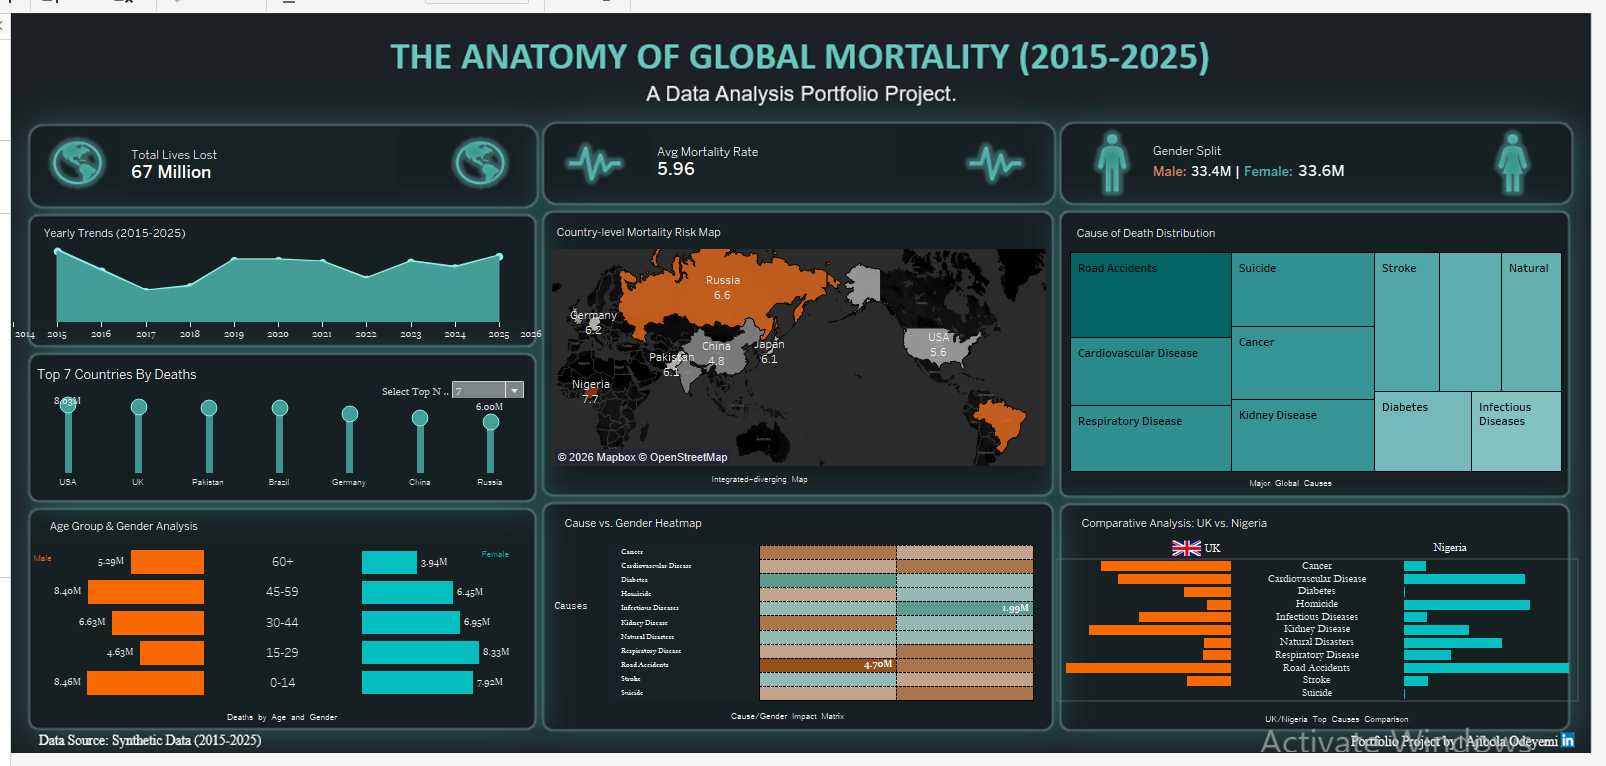

What the dashboard file says about the page in this screenshot:
{"tool":"tableau","page":{"name":"Dashboard 1","canvas":[1580,740],"ordinal":0},"visuals":[{"type":"image","box":[8,8,1564,724]},{"type":"worksheet","title":"Sheet 1 (4)","mark":"Automatic","box":[1138,112,343,76]},{"type":"worksheet","title":"Sheet 1 (2)","mark":"Automatic","box":[642,121,237,58]},{"type":"worksheet","title":"Sheet 1","mark":"Automatic","box":[116,122,270,61]},{"type":"text","box":[543,204,276,30]},{"type":"text","box":[30,205,273,30]},{"type":"text","box":[1063,205,210,30]},{"type":"worksheet","title":"Sheet 1 (10)","mark":"Line","rows":["Number_of_Deaths","Number_of_Deaths"],"cols":["Year"],"box":[2,232,530,107]},{"type":"worksheet","title":"Sheet 1 (11)","mark":"Automatic","box":[1055,235,499,228]},{"type":"worksheet","title":"Sheet 1 (7)","mark":"Automatic","box":[541,236,494,217]},{"type":"worksheet","title":"Sheet 1 (5)","mark":"Automatic","rows":["Number_of_Deaths","Number_of_Deaths"],"cols":["Country"],"box":[22,349,493,131]},{"type":"parameter","param":"[Parameters].[Parameter 1]","box":[366,368,150,17]},{"type":"text","box":[698,450,148,30]},{"type":"text","box":[1236,453,128,33]},{"type":"text","box":[551,495,208,30]},{"type":"text","box":[1068,495,285,30]},{"type":"text","box":[36,498,254,30]},{"type":"text","box":[1420,520,100,30]},{"type":"text","box":[1191,521,100,30]},{"type":"text","box":[468,525,100,30]},{"type":"image","param":"C:/Users/USER/Downloads/uk flag icon.png","box":[1160,527,31,16]},{"type":"image","param":"C:/Users/USER/AppData/Local/Temp/TableauTemp/19x3lg00do9o2217msym804m0k1e/Sheets","box":[1390,528,27,15]},{"type":"text","box":[20,529,100,30]},{"type":"worksheet","title":"Sheet 1 (12)","mark":"Square","rows":["Cause_of_Death"],"cols":["Gender"],"box":[604,532,419,156]},{"type":"worksheet","title":"Sheet 1 (6)","mark":"Automatic","rows":["Age_Group"],"cols":["Calculation_285134194749792262","Calculation_781374579013070849","Calculation_285134194750025735"],"box":[35,534,474,151]},{"type":"worksheet","title":"Sheet 1 (9)","mark":"Automatic","rows":["Cause_of_Death"],"cols":["Calculation_285134194784825360","Calculation_781374579029274627","Calculation_285134194785046545"],"box":[1047,547,519,140]},{"type":"text","box":[541,577,100,30]},{"type":"text","box":[690,687,173,30]},{"type":"text","box":[168,688,206,30]},{"type":"text","box":[1190,690,272,30]}]}

Visuals, with their boxes on the page's 1580x740 design canvas (x1, y1, x2, y2). These are canvas units, not pixel positions in the 1606x766 screenshot, which may show the page scaled, cropped or inside an application window:
image: crop(8, 8, 1572, 732)
"Sheet 1 (4)" worksheet: crop(1138, 112, 1481, 188)
"Sheet 1 (2)" worksheet: crop(642, 121, 879, 179)
"Sheet 1" worksheet: crop(116, 122, 386, 183)
text: crop(543, 204, 819, 234)
text: crop(30, 205, 303, 235)
text: crop(1063, 205, 1273, 235)
"Sheet 1 (10)" worksheet (Line marks): crop(2, 232, 532, 339)
"Sheet 1 (11)" worksheet: crop(1055, 235, 1554, 463)
"Sheet 1 (7)" worksheet: crop(541, 236, 1035, 453)
"Sheet 1 (5)" worksheet: crop(22, 349, 515, 480)
parameter: crop(366, 368, 516, 385)
text: crop(698, 450, 846, 480)
text: crop(1236, 453, 1364, 486)
text: crop(551, 495, 759, 525)
text: crop(1068, 495, 1353, 525)
text: crop(36, 498, 290, 528)
text: crop(1420, 520, 1520, 550)
text: crop(1191, 521, 1291, 551)
text: crop(468, 525, 568, 555)
image: crop(1160, 527, 1191, 543)
image: crop(1390, 528, 1417, 543)
text: crop(20, 529, 120, 559)
"Sheet 1 (12)" worksheet (Square marks): crop(604, 532, 1023, 688)
"Sheet 1 (6)" worksheet: crop(35, 534, 509, 685)
"Sheet 1 (9)" worksheet: crop(1047, 547, 1566, 687)
text: crop(541, 577, 641, 607)
text: crop(690, 687, 863, 717)
text: crop(168, 688, 374, 718)
text: crop(1190, 690, 1462, 720)
